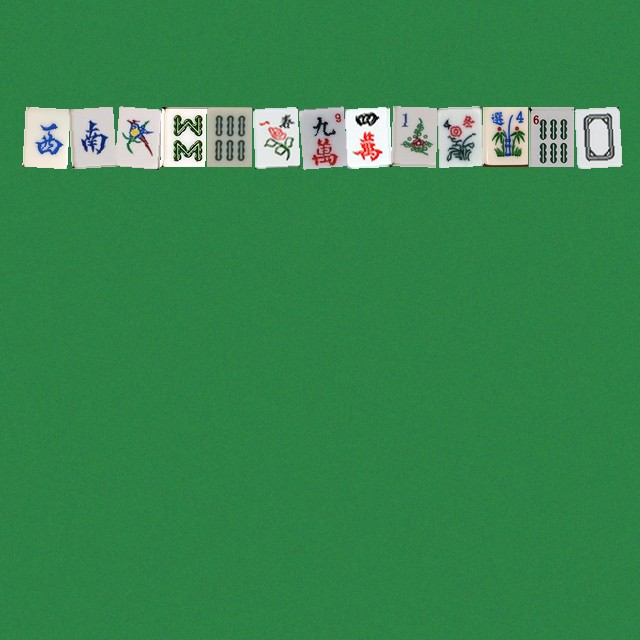tile: (22, 106, 67, 166), (68, 106, 113, 166), (114, 106, 159, 166), (160, 106, 205, 166), (206, 106, 251, 166), (252, 106, 297, 166), (298, 106, 343, 166), (344, 106, 389, 166), (390, 106, 435, 166), (436, 106, 481, 166), (482, 106, 527, 166), (528, 106, 573, 166), (574, 106, 619, 166)
